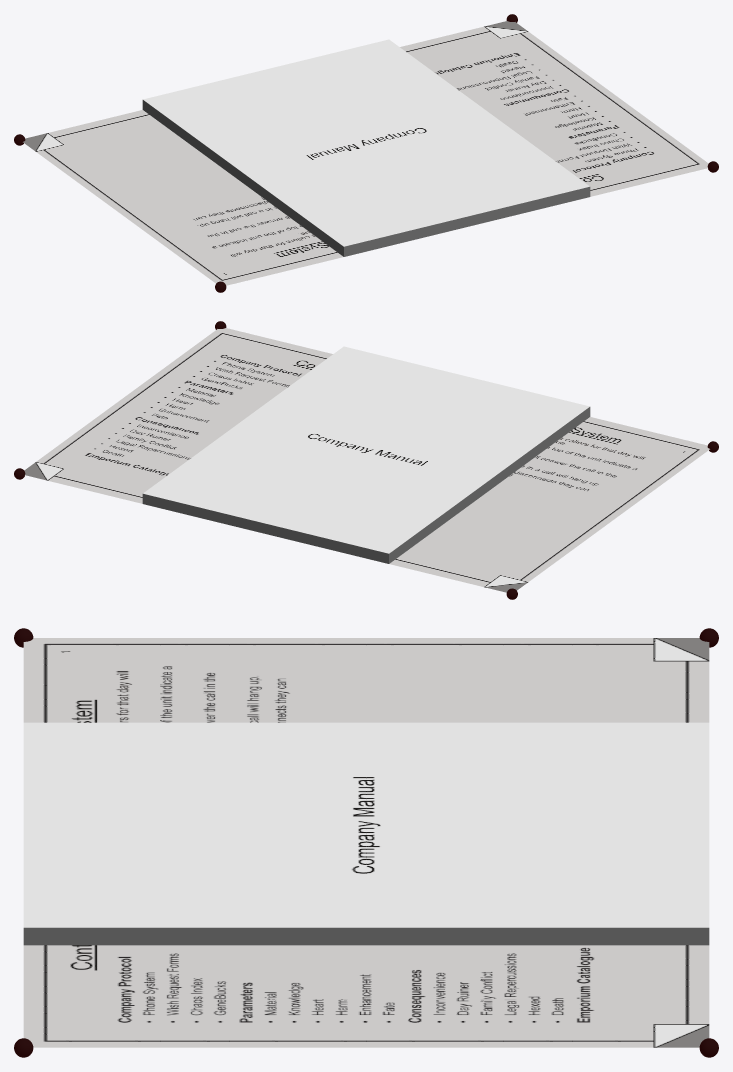
Rendered from Book.fbx.
3 renders of one model, top to bottom at view 1: azimuth 30°, elevation 25°; view 2: azimuth 150°, elevation 25°; view 3: azimuth 270°, elevation 25°, orthographic. The views are drawn at different scales.
Visible parts, largest first — view 1: Page_Cover, Page_Right, Page_Left, BookCover; view 2: Page_Cover, Page_Right, Page_Left, BookCover; view 3: Page_Cover, Page_Left, Page_Right, BookCover.
Boxes of the visible parts, left/top/right/bottom form: Page_Cover: left=143, top=39, right=589, bottom=246; Page_Right: left=23, top=110, right=343, bottom=285; Page_Left: left=400, top=21, right=708, bottom=196; BookCover: left=142, top=100, right=590, bottom=256; Page_Cover: left=143, top=346, right=589, bottom=553; Page_Right: left=389, top=417, right=709, bottom=592; Page_Left: left=24, top=328, right=332, bottom=503; BookCover: left=142, top=407, right=590, bottom=563; Page_Cover: left=23, top=722, right=709, bottom=927; Page_Left: left=23, top=945, right=709, bottom=1047; Page_Right: left=23, top=638, right=709, bottom=722; BookCover: left=23, top=927, right=709, bottom=945.
Bounding box in the file's own units: 510 × 15.1 × 363.
5 materials, 3 textured.
